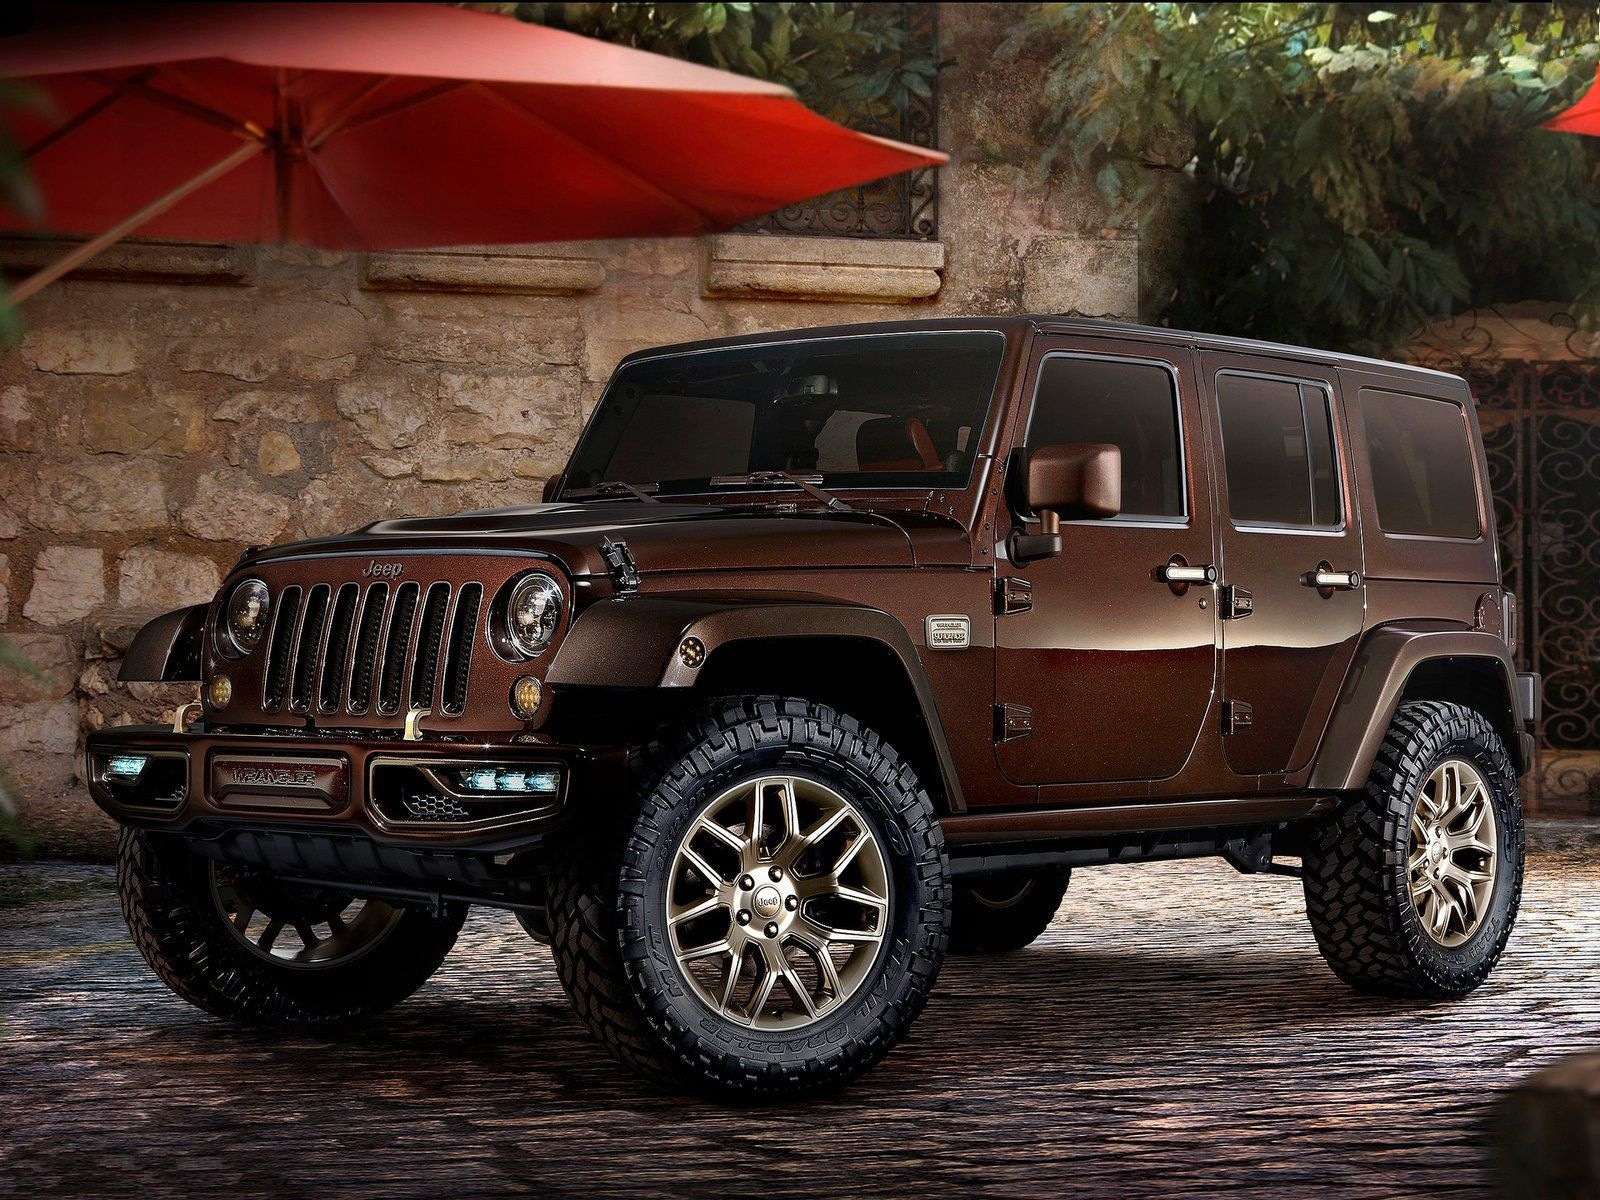jeep: (71, 236, 1541, 1068)
